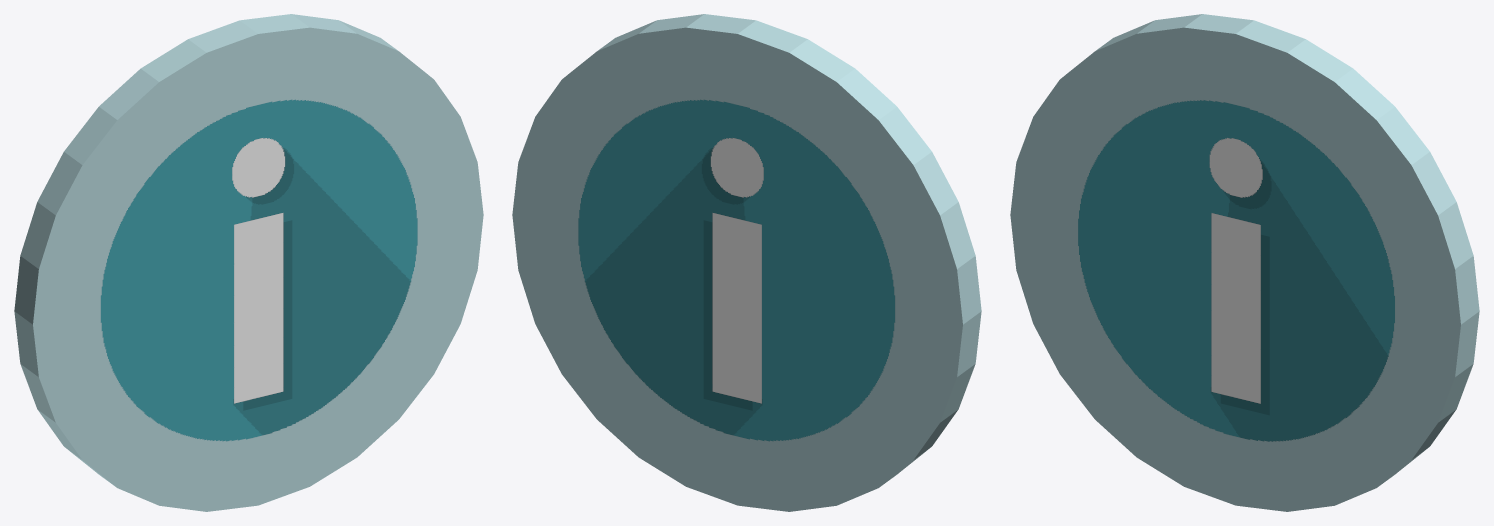
Rendered from notice.FBX.
The picture shows the model from 3 angles, left to right: view 1: azimuth 30°, elevation 25°; view 2: azimuth 150°, elevation 25°; view 3: azimuth 330°, elevation 25°; orthographic projection.
Visible parts, largest first — view 1: notice; view 2: notice; view 3: notice.
Part boxes in pixels (<box>): notice: <box>14,14,483,511</box>; notice: <box>512,14,981,511</box>; notice: <box>1010,14,1479,511</box>.
Size of the model in its own units: 37.06 by 37.06 by 2.65.
1 material, 1 textured.
